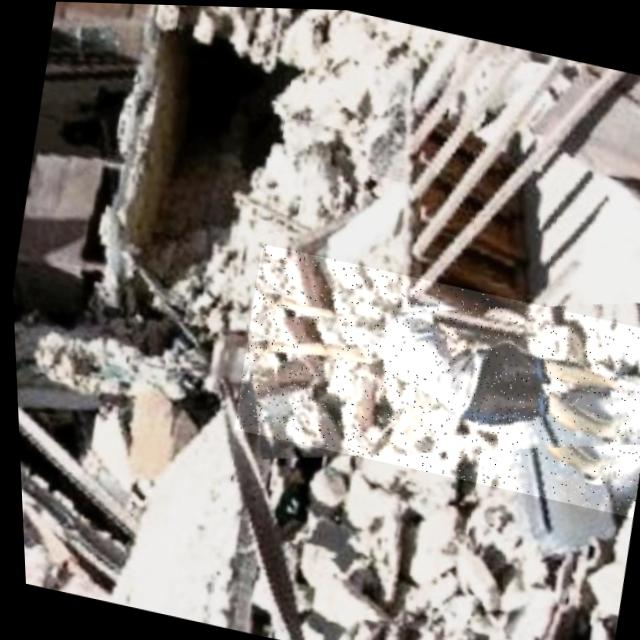Person in Rubble: (223, 240, 640, 513)
